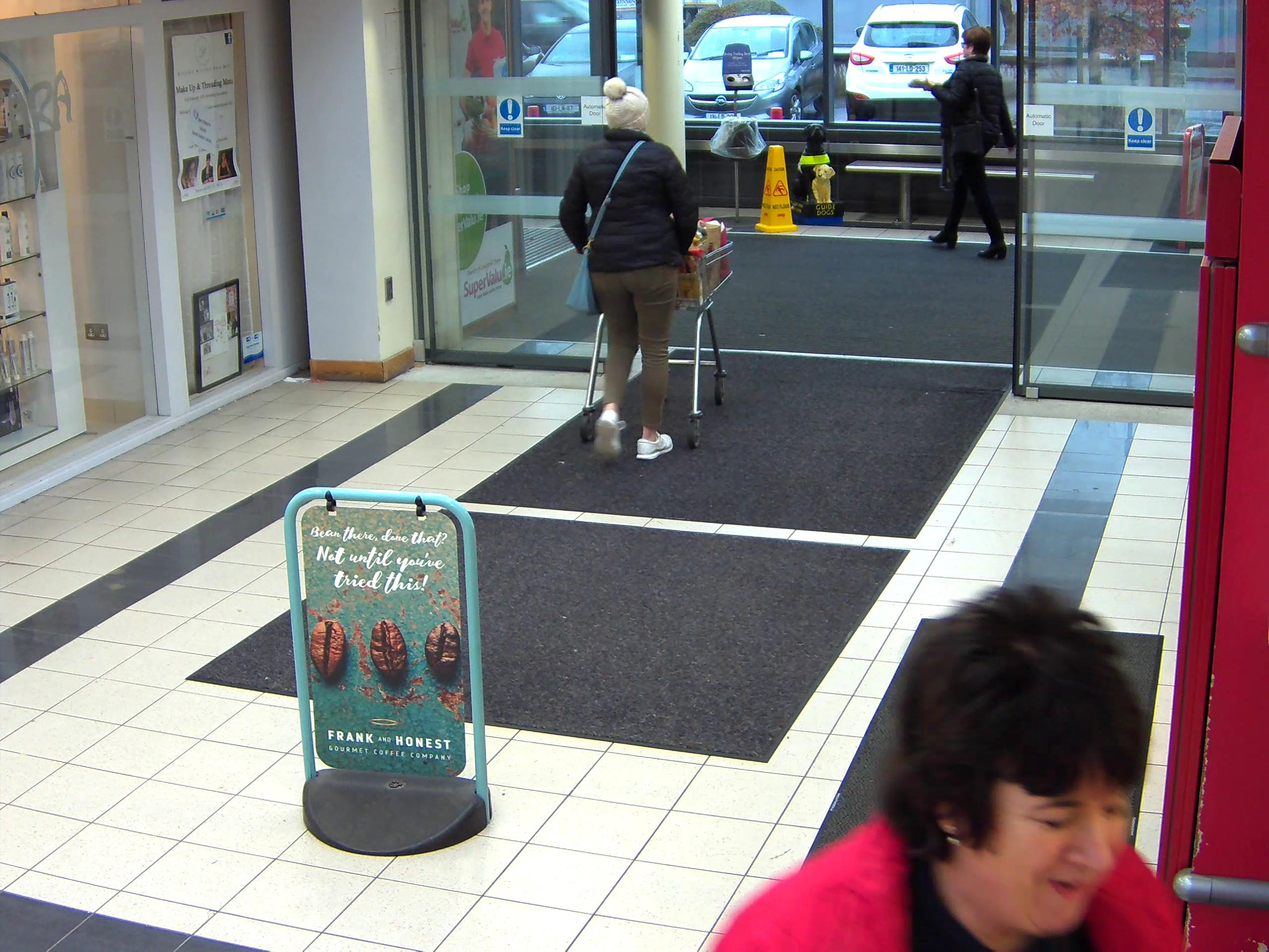backpack-or-handbag: (564, 245, 602, 317)
filled-trolly: (580, 215, 735, 446)
person: (560, 76, 700, 460)
person-with-basket-trolly-and-backpack-handbag: (561, 75, 735, 461)
